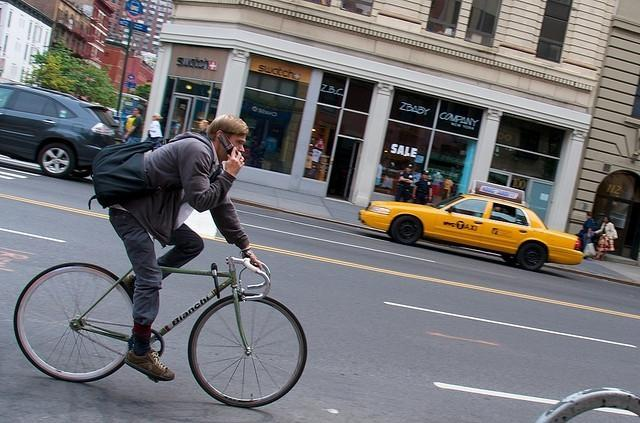bicycle: (12, 256, 308, 410)
car: (359, 182, 583, 267), (0, 82, 127, 180)
